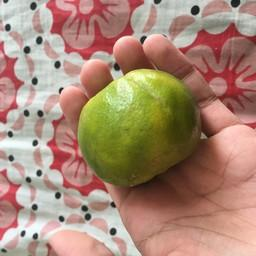Good_orange: (76, 78, 202, 187)
